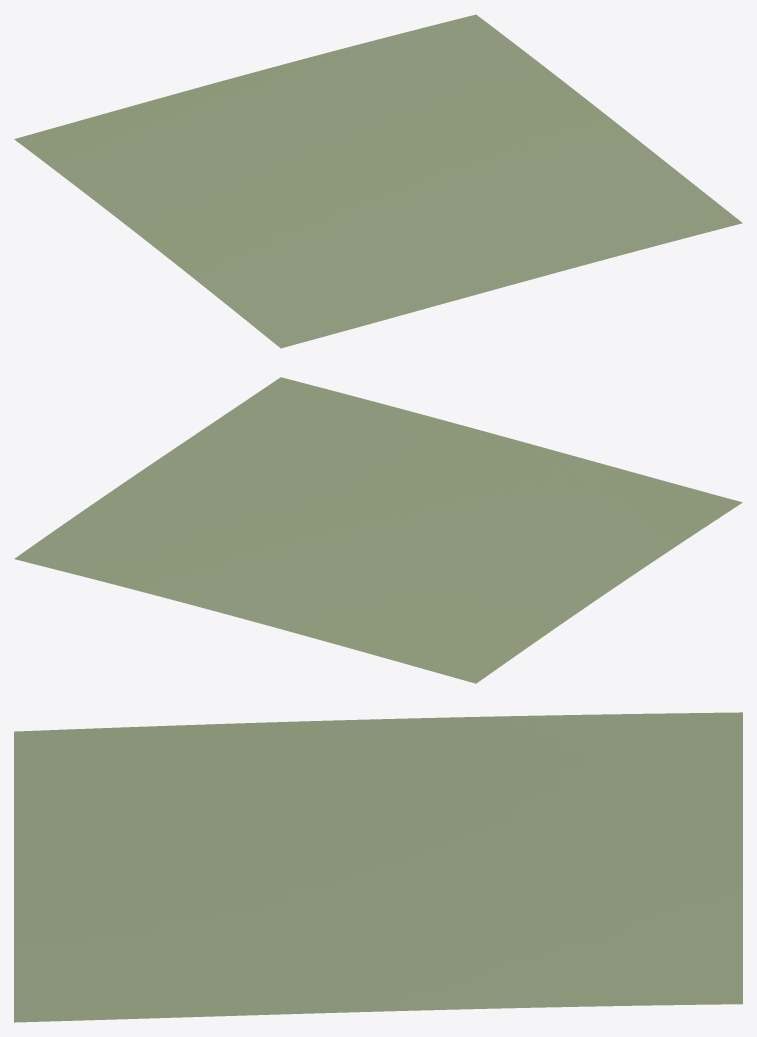
Rendered from expanse-7-3.glb.
3 renders of one model, top to bottom at view 1: azimuth 30°, elevation 25°; view 2: azimuth 150°, elevation 25°; view 3: azimuth 270°, elevation 25°, orthographic. The views are drawn at different scales.
Parts seen in each view (by area): view 1: expanse-7-3; view 2: expanse-7-3; view 3: expanse-7-3.
Boxes of the visible parts, box(x1,y1,x2,y2) form: expanse-7-3: box(14, 14, 742, 348); expanse-7-3: box(14, 377, 742, 683); expanse-7-3: box(14, 712, 742, 1022).
Size of the model in its own units: 256 by 13.72 by 256.
